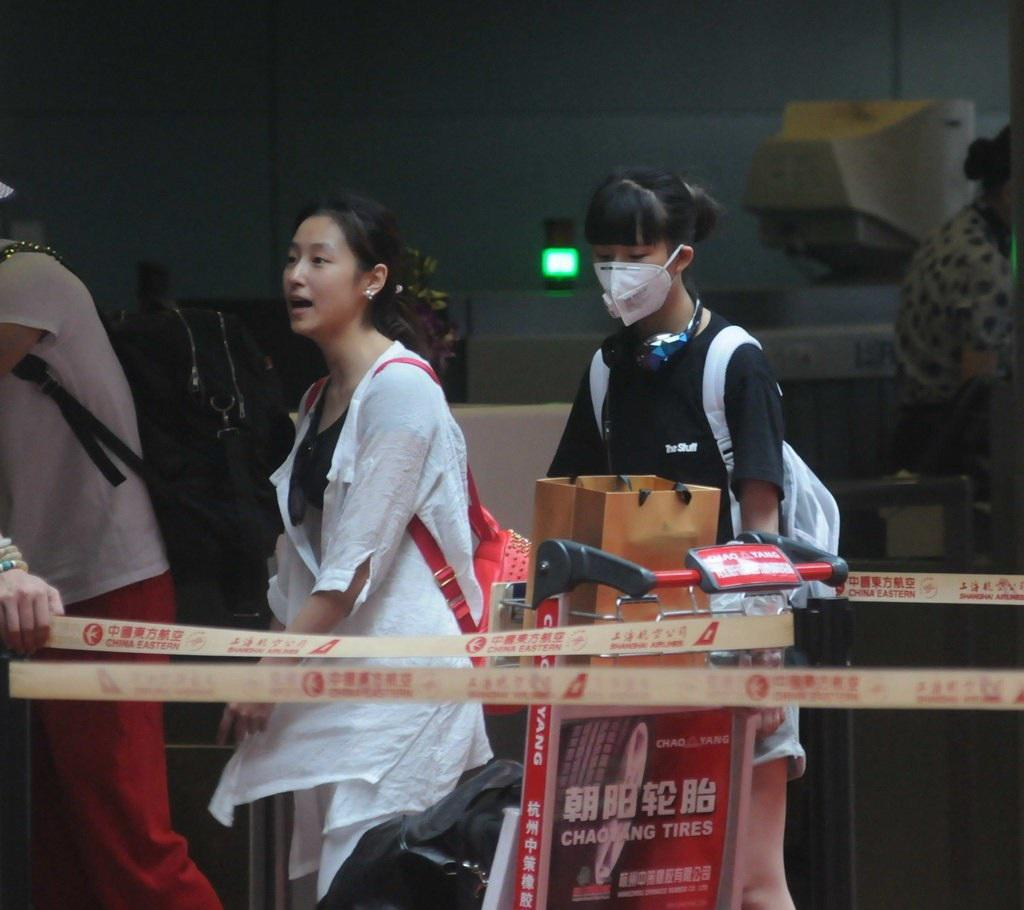NONE: (282, 239, 361, 325)
OK: (591, 231, 682, 322)
